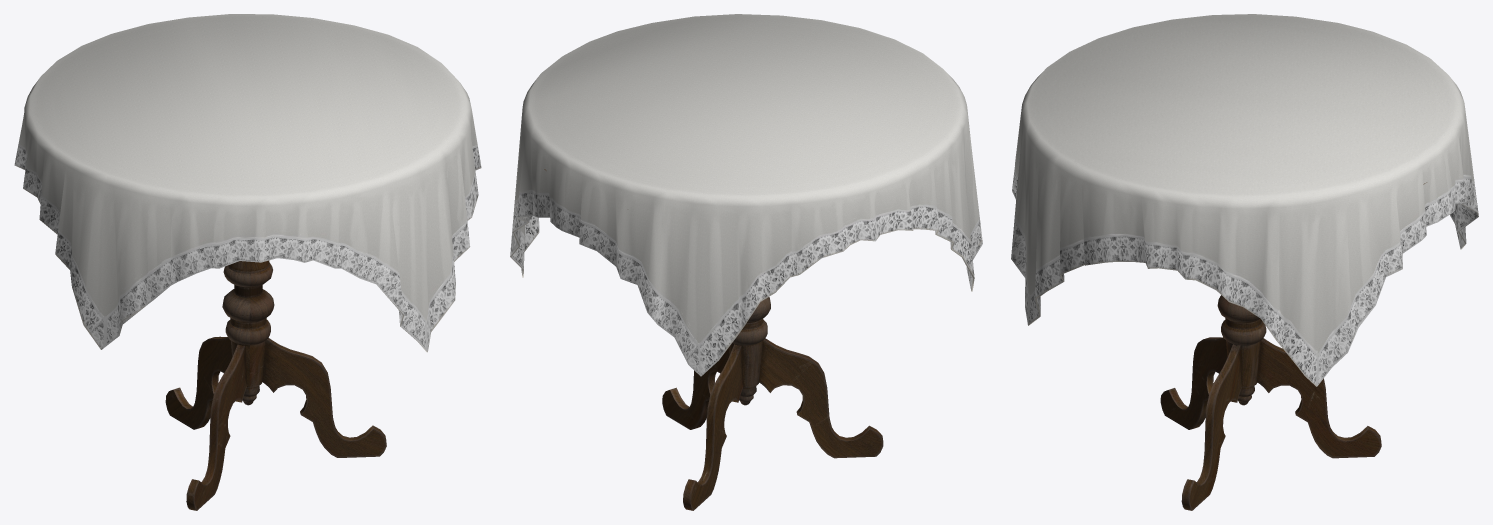
Rendered from table_tea.FBX.
The picture shows the model from 3 angles, left to right: view 1: azimuth 30°, elevation 25°; view 2: azimuth 150°, elevation 25°; view 3: azimuth 270°, elevation 25°; orthographic projection.
Visible parts, largest first — view 1: table_tea; view 2: table_tea; view 3: table_tea.
Part boxes in pixels (x1,y1,x2,y2): table_tea: (14, 14, 481, 510); table_tea: (510, 14, 982, 510); table_tea: (1011, 14, 1478, 510).
Size of the model in its own units: 0.6558 by 0.545 by 0.6527.
1 material, 1 textured.
